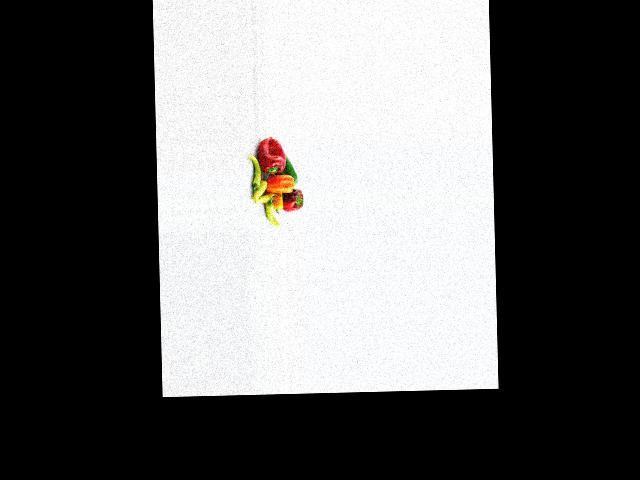bell_pepper: (248, 152, 261, 193)
